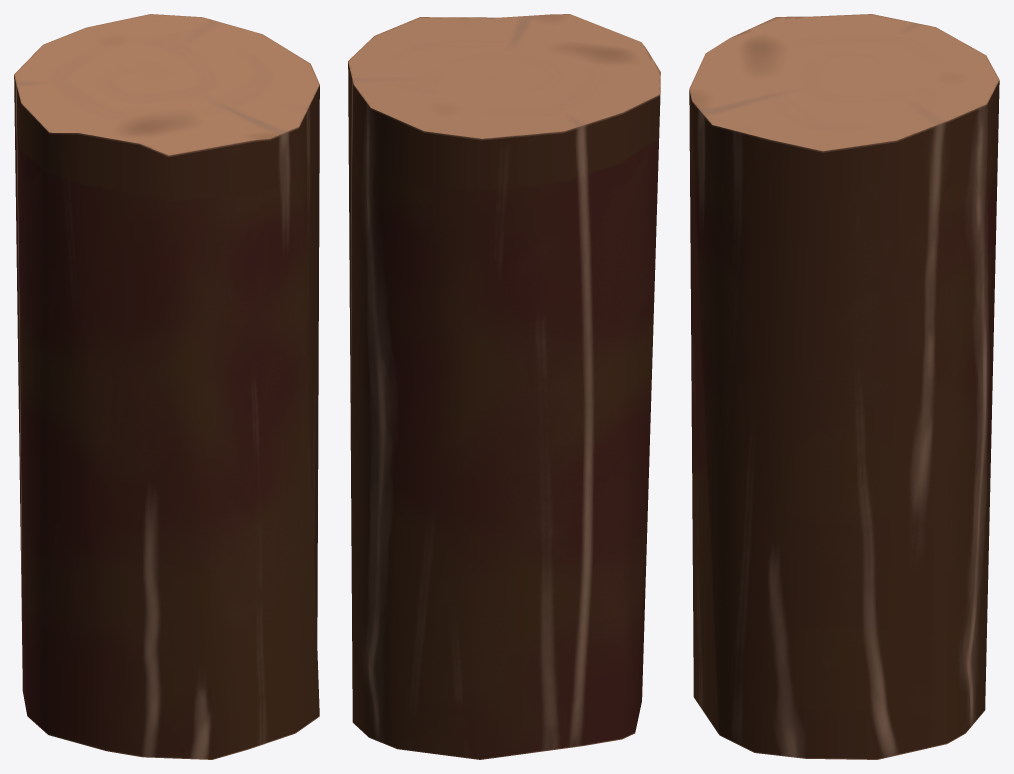
Rendered from beam01.glb.
The picture shows the model from 3 angles, left to right: view 1: azimuth 30°, elevation 25°; view 2: azimuth 150°, elevation 25°; view 3: azimuth 270°, elevation 25°; orthographic projection. The views are drawn at different scales.
Visible parts, largest first — view 1: beam01; view 2: beam01; view 3: beam01.
Boxes of the visible parts, x1,y1,x2,y2 form: beam01: [14, 14, 319, 759]; beam01: [348, 14, 660, 759]; beam01: [689, 14, 999, 759].
Size of the model in its own units: 0.2207 by 0.4889 by 0.2196.
Materials: 1 (1 with a texture image).
